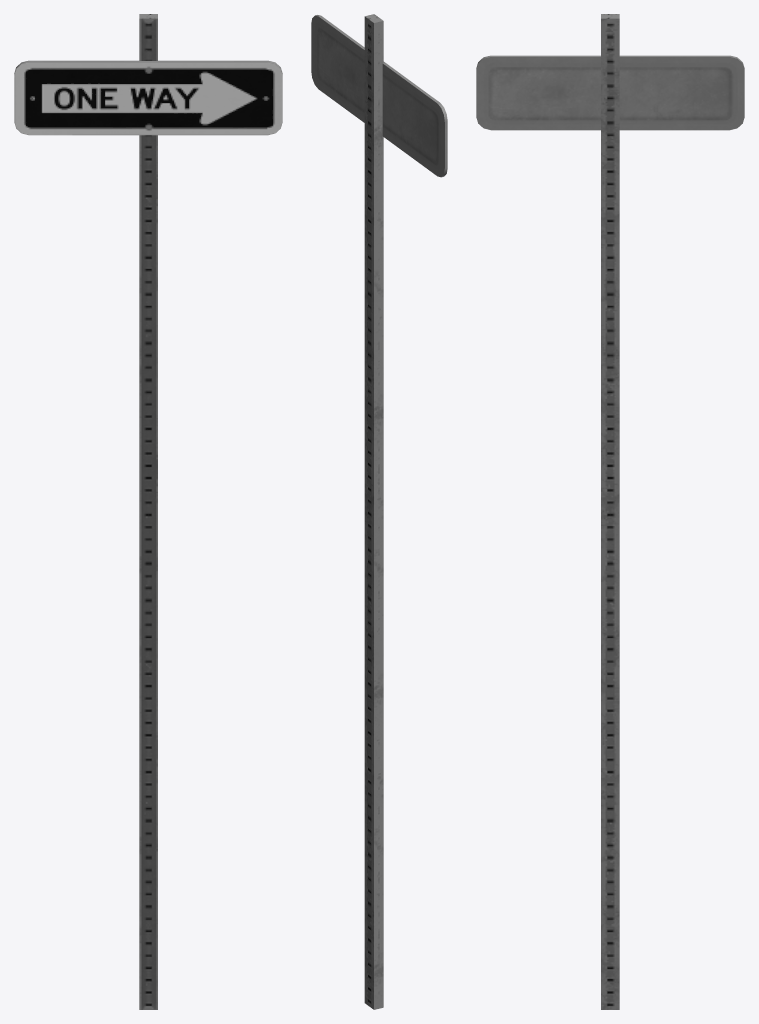
Rendered from MB_Sign_One_Way.fbx.
3 renders of one model, left to right at view 1: azimuth 90°, elevation 25°; view 2: azimuth 210°, elevation 25°; view 3: azimuth 270°, elevation 25°, orthographic.
Visible parts, largest first — view 1: MB_Sign_One_Way; view 2: MB_Sign_One_Way; view 3: MB_Sign_One_Way.
Boxes of the visible parts, x1,y1,x2,y2 form: MB_Sign_One_Way: (14,14,282,1009); MB_Sign_One_Way: (311,14,447,1009); MB_Sign_One_Way: (476,14,744,1009).
Bounding box in the file's own units: 2.53 × 209 × 51.31.
